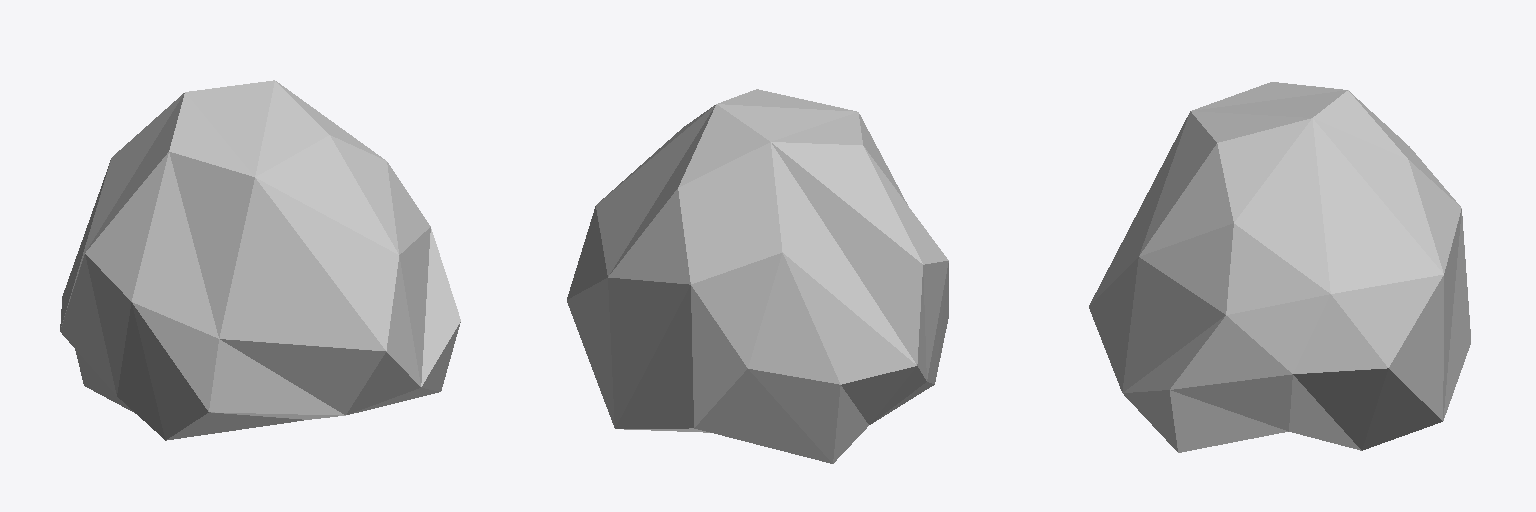
The model's file is tree_leaves_old.obj.
3 renders of one model, left to right at view 1: azimuth 30°, elevation 25°; view 2: azimuth 150°, elevation 25°; view 3: azimuth 270°, elevation 25°, orthographic.
Parts seen in each view (by area): view 1: polySurface3; view 2: polySurface3; view 3: polySurface3.
Boxes of the visible parts, x1=… form: polySurface3: x1=60, y1=80, x2=460, y2=440; polySurface3: x1=567, y1=89, x2=948, y2=463; polySurface3: x1=1089, y1=82, x2=1470, y2=452.
Bounding box in the file's own units: 0.7351 × 0.6313 × 0.7057.